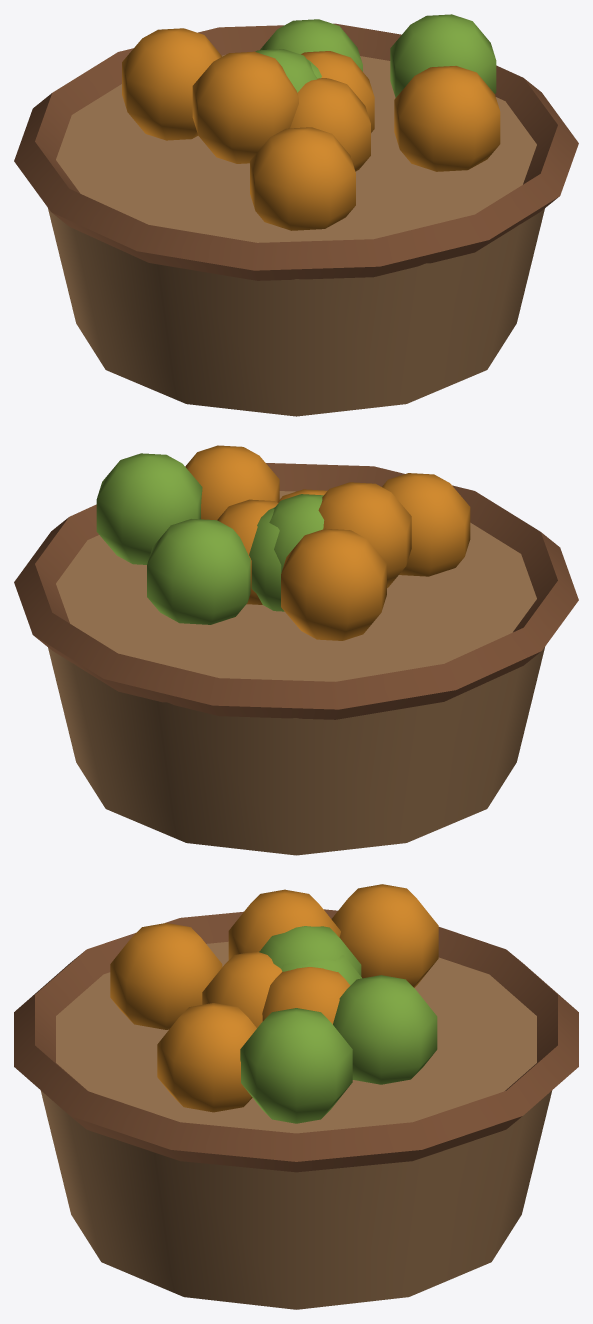
The model's file is basket_produce.glb.
The picture shows the model from 3 angles, top to bottom: view 1: azimuth 30°, elevation 25°; view 2: azimuth 150°, elevation 25°; view 3: azimuth 270°, elevation 25°; orthographic projection. The views are drawn at different scales.
Parts seen in each view (by area): view 1: Basket; view 2: Basket; view 3: Basket.
Part boxes in pixels (<box>): Basket: <box>14,14,578,416</box>; Basket: <box>14,445,578,855</box>; Basket: <box>14,884,578,1309</box>.
Size of the model in its own units: 1.08 by 0.6012 by 1.05.
